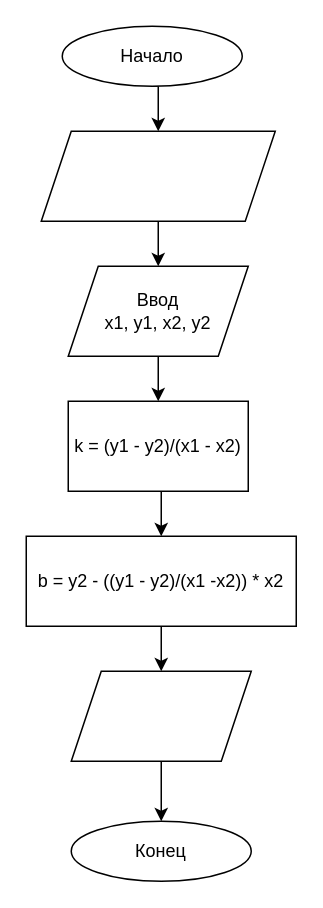
Image size: 323x908. Some labels were removed from this diagram. Here are the shapes that lost their labels. From the top down, the centre of each, then its label:
point (157, 175): Вывод 'Введите координаты (х1, у1) (х2, у2)'
point (160, 715): Вывод 'y = kx + b'
